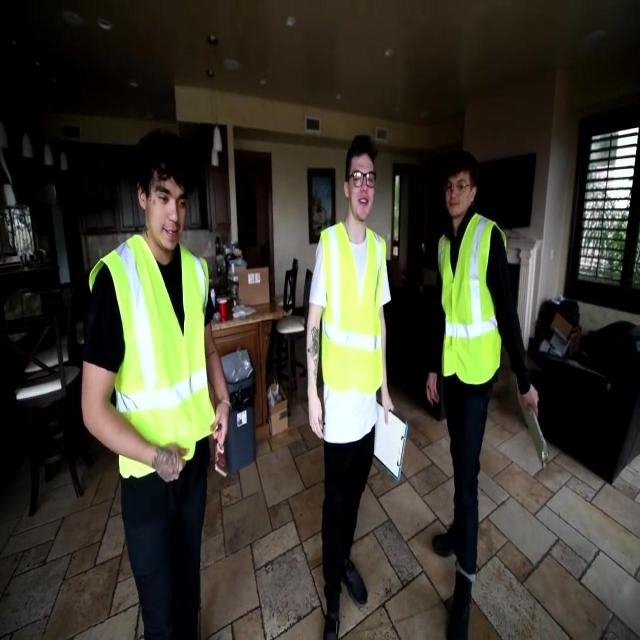Vest: (86, 235, 216, 477), (436, 212, 508, 384), (319, 217, 386, 394)
